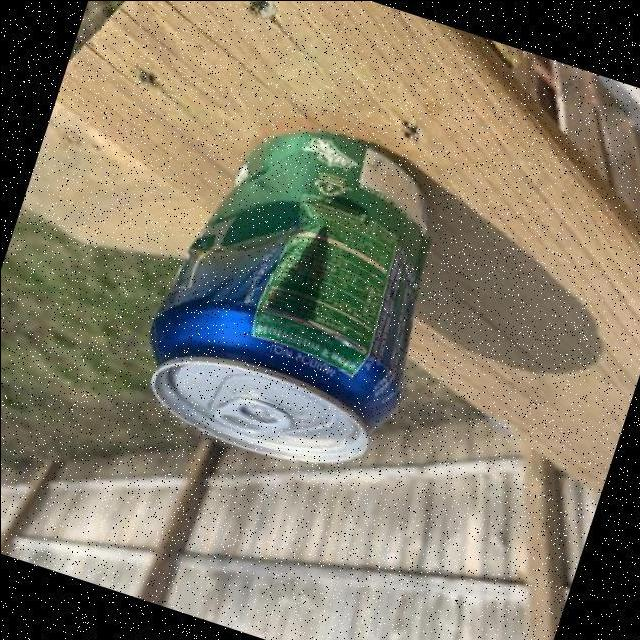can: (82, 74, 490, 541)
